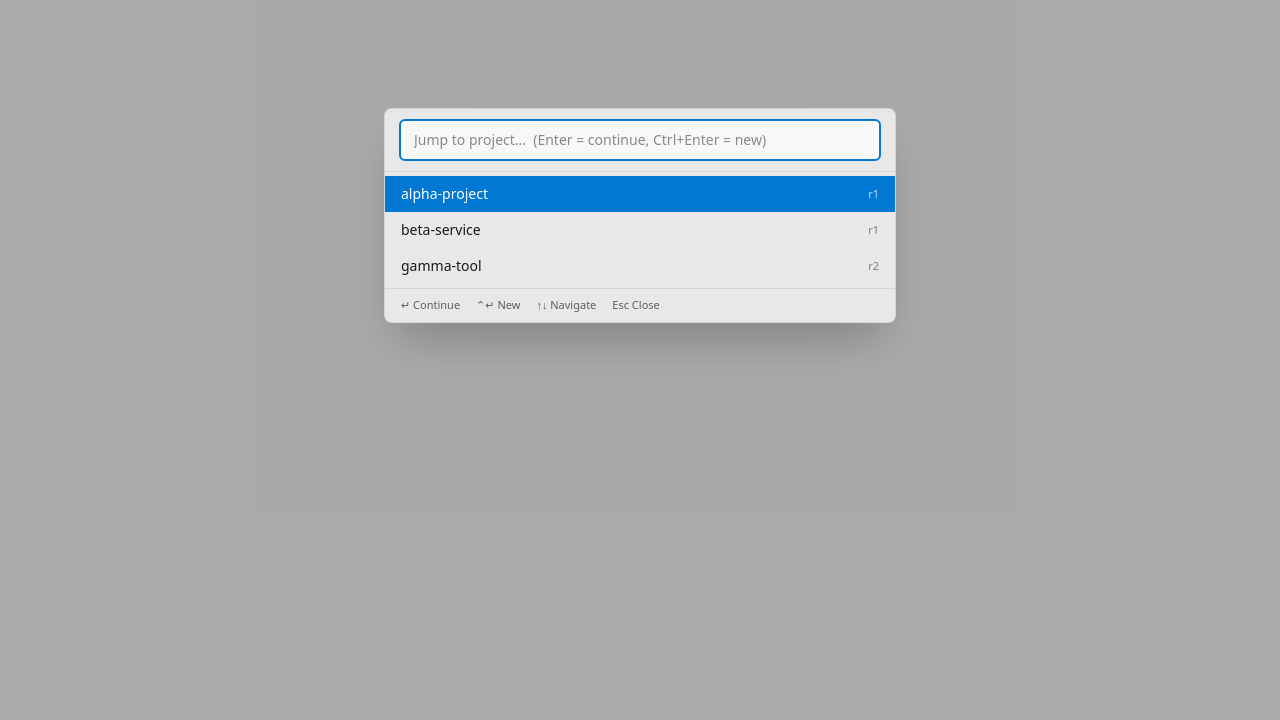
Test: CommandPalette › fuzzy-filters projects as user types
Type "alp" into the field with placeholder "Jump to project… (Enter = continue, Ctrl+Enter = new)" at (640, 140), box [401,121,879,159]
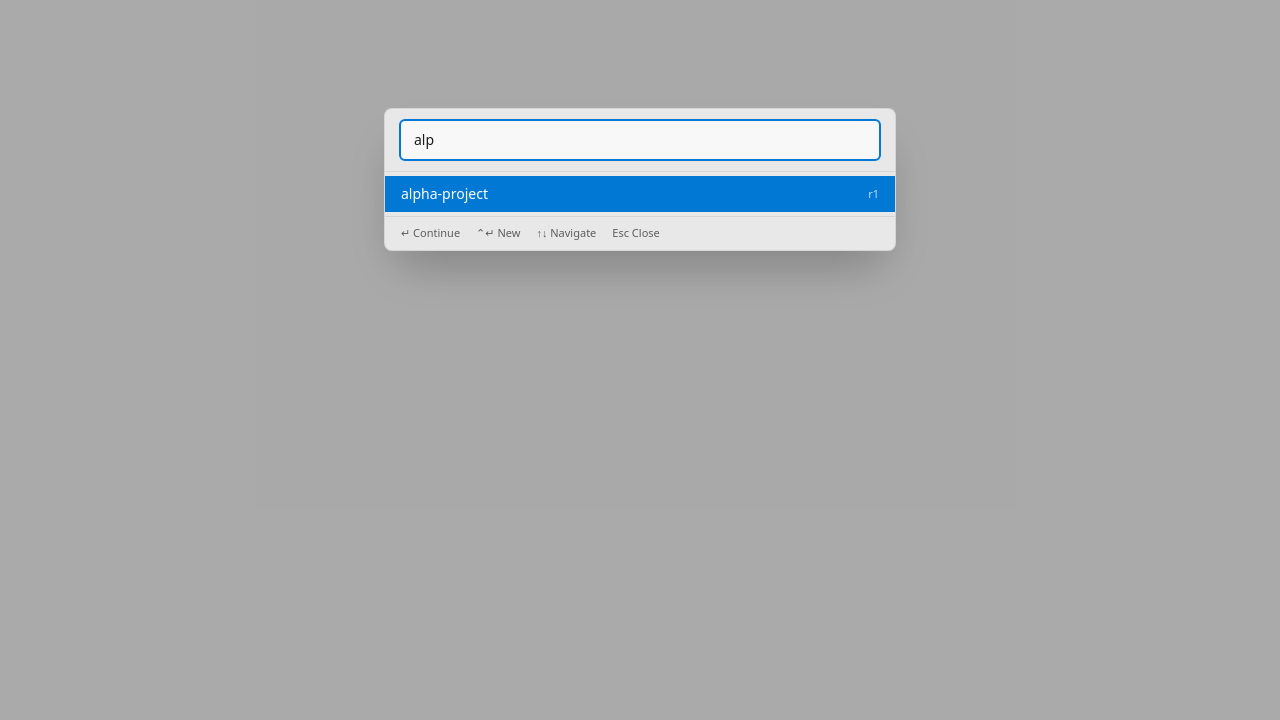
Expected: the text "alpha-project" is shown, [401,184,488,204]
Result: the option "beta-service" is gone
Result: the option "gamma-tool" is gone
